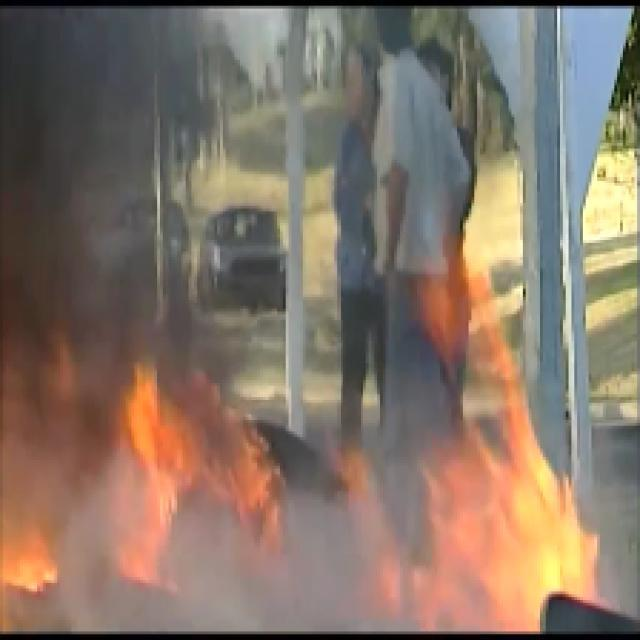Fire: (0, 323, 611, 626)
Smoke: (0, 11, 357, 363)
